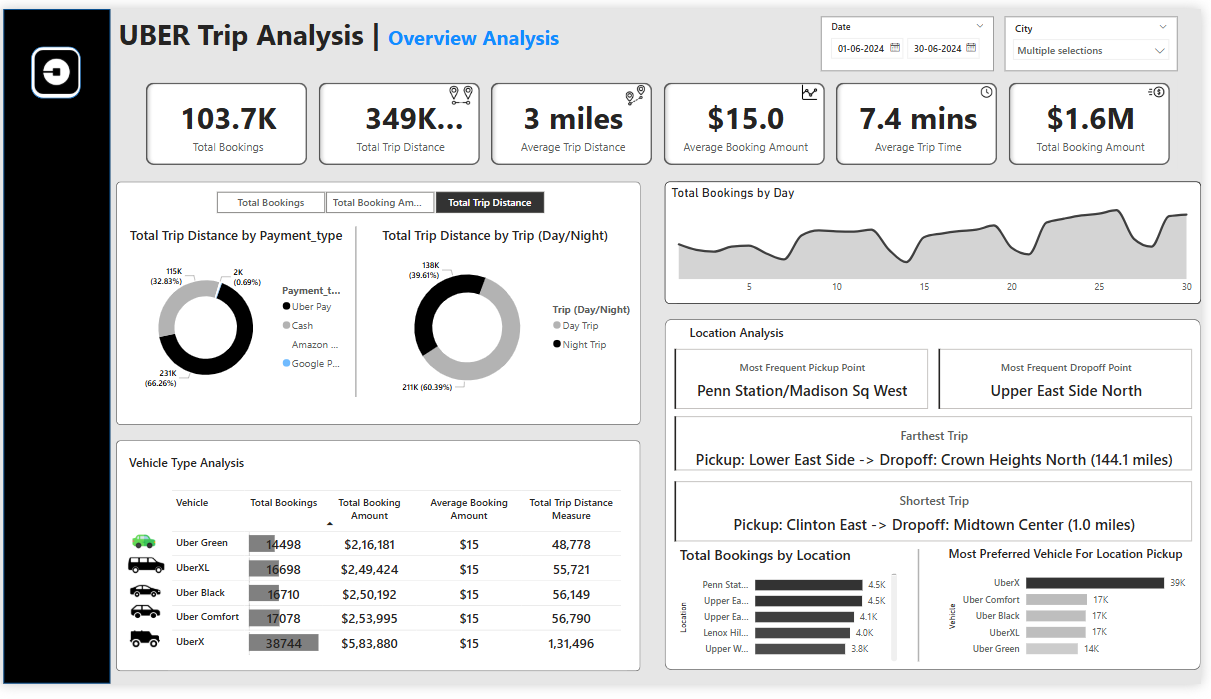

This screenshot's page, from the dashboard's own definition file:
{"tool":"powerbi","page":{"name":"Overview Analysis","canvas":[1600,900],"ordinal":0},"visuals":[{"type":"shape","box":[2.5,0,142.5,900],"z":0},{"type":"textbox","box":[151.3,3.1,940.1,70.3],"z":1000},{"type":"cardVisual","fields":{"Data":["Trip Details.Total Bookings","Trip Details.Total Trip Distance","Trip Details.Average Trip Distance","Trip Details.Average Booking Amount","Trip Details.Average Trip Time","Trip Details.Total Booking Amount"]},"box":[187.5,92.5,1380,120],"z":2000},{"type":"image","box":[1518.3,95,43.3,31.7],"z":3000},{"type":"image","box":[593.3,93.3,40,43.3],"z":4000},{"type":"image","box":[828.3,93.3,36.7,43.3],"z":5000},{"type":"image","box":[1301.7,95,25,31.7],"z":6000},{"type":"shape","box":[152.5,230,700,325],"z":7000},{"type":"image","box":[1061.7,85,33.3,51.7],"z":8000},{"type":"slicer","fields":{"Values":["Dynamic Measure.Dynamic Measure"]},"box":[262,236,486,42],"z":9000},{"type":"donutChart","fields":{"Y":["Trip Details.Total Bookings"],"Category":["Trip Details.Payment_type"]},"box":[166.2,290,300,247.5],"z":10000},{"type":"donutChart","fields":{"Y":["Trip Details.Total Bookings"],"Category":["Trip Details.Trip Type (Day/Night)"]},"box":[502.9,290,347.1,247.1],"z":11000},{"type":"shape","box":[153.3,575,700,308.3],"z":12000},{"type":"pivotTable","fields":{"Rows":["Trip Details.Vehicle"],"Values":["Trip Details.Total Bookings","Trip Details.Total Booking Amount","Trip Details.Average Booking Amount","Trip Details.Total Trip Distance Measure"]},"box":[223.3,636.7,610,245],"z":13000},{"type":"image","box":[143.3,690,95,40],"z":14000},{"type":"image","box":[158.3,778.3,68.3,50],"z":15000},{"type":"image","box":[143.3,748.3,98.3,55],"z":16000},{"type":"image","box":[135,815,113.3,50],"z":17000},{"type":"image","box":[146.7,710,93.3,63.3],"z":18000},{"type":"card","fields":{"Values":["Trip Details.Title Grid"]},"box":[165,588.3,165,36.7],"z":19000},{"type":"shape","box":[900,230,700,163.3],"z":20000},{"type":"areaChart","fields":{"Category":["Calendar Table.Date.Variation.Date Hierarchy.Day"],"Y":["Trip Details.Total Bookings"]},"box":[885,230,715,163.3],"z":21000},{"type":"shape","box":[885,413.3,715,468.3],"z":22000},{"type":"cardVisual","fields":{"Data":["Location Table.Most Frequent Pickup Point","Location Table.Most Frequent Dropoff Point"]},"box":[892.5,447.5,700,90],"z":23000},{"type":"cardVisual","fields":{"Data":["Location Table.Farthest Trip"]},"box":[892.5,537.5,700,82.5],"z":24000},{"type":"cardVisual","fields":{"Data":["Location Table.Smallest Trip"]},"box":[892.5,625,700,90],"z":25000},{"type":"barChart","fields":{"Y":["Trip Details.Total Bookings"],"Category":["Location Table.Location"]},"box":[900,715,300,160],"z":26000},{"type":"barChart","title":"Most Preferred Vehicle For Location Pickup","fields":{"Category":["Trip Details.Vehicle"],"Y":["CountNonNull(Trip Details.PULocationID)"]},"box":[1257.5,715,335,160],"z":27000},{"type":"shape","box":[322.5,290,300,227.5],"z":28000},{"type":"shape","box":[1072.5,720,300,150],"z":29000},{"type":"card","fields":{"Values":["Trip Details.Title Grid 1"]},"box":[897.5,420,165,27.5],"z":30000},{"type":"slicer","fields":{"Values":["Calendar Table.Date"]},"box":[1092.5,10,230,72.5],"z":31000},{"type":"slicer","fields":{"Values":["Location Table.City"]},"box":[1337.5,10,230,72.5],"z":32000},{"type":"shape","box":[40.7,49.8,66.4,69.4],"z":33000},{"type":"image","box":[40.7,49.8,67.9,67.9],"z":34000}]}

Visuals, with their boxes in screenshot pixels (x1, y1, x2, y2), scaled from the page's 1600x900 canvas onto the 1211x699 screenshot:
shape: <box>2,0,110,698</box>
textbox: <box>115,2,826,57</box>
cardVisual - Trip Details.Total Bookings x Trip Details.Total Trip Distance: <box>142,72,1186,165</box>
image: <box>1149,74,1182,98</box>
image: <box>449,72,479,106</box>
image: <box>627,72,655,106</box>
image: <box>985,74,1004,98</box>
shape: <box>115,179,645,431</box>
image: <box>804,66,829,106</box>
slicer - Dynamic Measure.Dynamic Measure: <box>198,183,566,216</box>
donutChart - Trip Details.Total Bookings x Trip Details.Payment_type: <box>126,225,353,417</box>
donutChart - Trip Details.Total Bookings x Trip Details.Trip Type (Day/Night): <box>381,225,643,417</box>
shape: <box>116,447,646,686</box>
pivotTable - Trip Details.Vehicle x Trip Details.Total Bookings: <box>169,495,631,685</box>
image: <box>108,536,180,567</box>
image: <box>120,604,172,643</box>
image: <box>108,581,183,624</box>
image: <box>102,633,188,672</box>
image: <box>111,551,182,601</box>
card - Trip Details.Title Grid: <box>125,457,250,485</box>
shape: <box>681,179,1210,305</box>
areaChart - Calendar Table.Date.Variation.Date Hierarchy.Day x Trip Details.Total Bookings: <box>670,179,1210,305</box>
shape: <box>670,321,1210,685</box>
cardVisual - Location Table.Most Frequent Pickup Point x Location Table.Most Frequent Dropoff Point: <box>676,348,1205,417</box>
cardVisual - Location Table.Farthest Trip: <box>676,417,1205,482</box>
cardVisual - Location Table.Smallest Trip: <box>676,485,1205,555</box>
barChart - Trip Details.Total Bookings x Location Table.Location: <box>681,555,908,680</box>
"Most Preferred Vehicle For Location Pickup" barChart: <box>952,555,1205,680</box>
shape: <box>244,225,471,402</box>
shape: <box>812,559,1039,676</box>
card - Trip Details.Title Grid 1: <box>679,326,804,348</box>
slicer - Calendar Table.Date: <box>827,8,1001,64</box>
slicer - Location Table.City: <box>1012,8,1186,64</box>
shape: <box>31,39,81,93</box>
image: <box>31,39,82,91</box>
